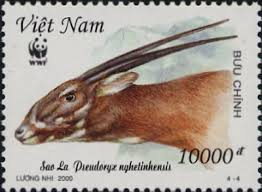sao_la: (14, 56, 189, 151)
